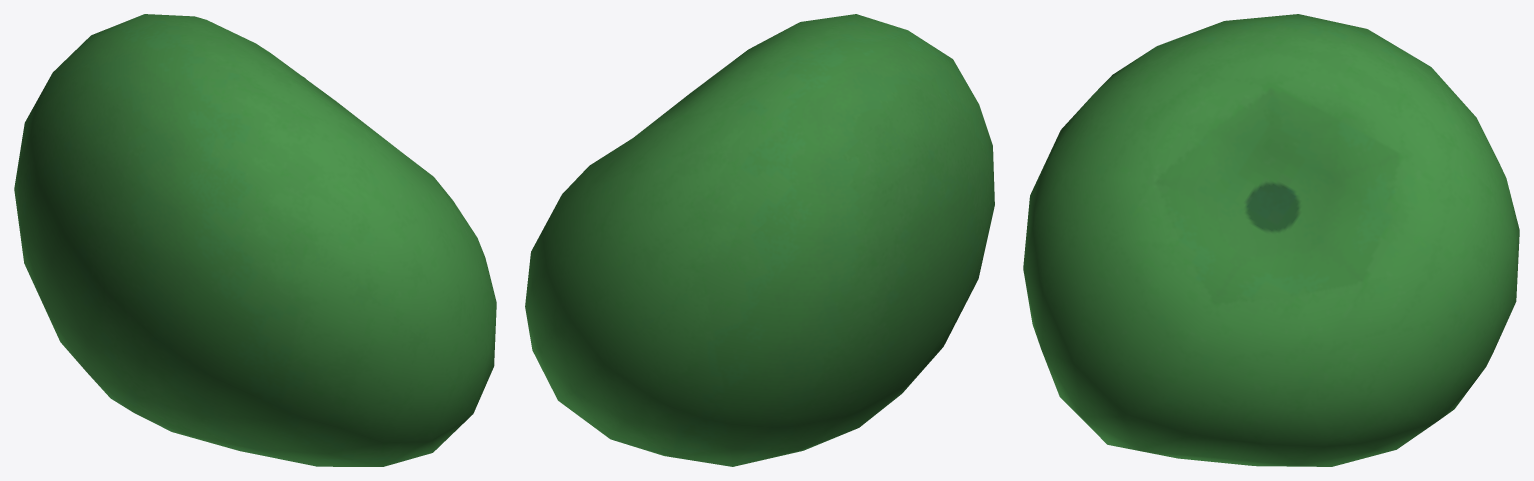
The model's file is pillow_2.glb.
The picture shows the model from 3 angles, left to right: view 1: azimuth 30°, elevation 25°; view 2: azimuth 150°, elevation 25°; view 3: azimuth 270°, elevation 25°; orthographic projection. The views are drawn at different scales.
Visible parts, largest first — view 1: fc_pillow_2.smd; view 2: fc_pillow_2.smd; view 3: fc_pillow_2.smd.
Part boxes in pixels (left/top/right/bottom): fc_pillow_2.smd: left=14, top=14, right=496, bottom=466; fc_pillow_2.smd: left=525, top=14, right=994, bottom=466; fc_pillow_2.smd: left=1023, top=14, right=1519, bottom=466.
Bounding box in the file's own units: 0.326 × 0.3146 × 0.3844.
1 material, 1 textured.
